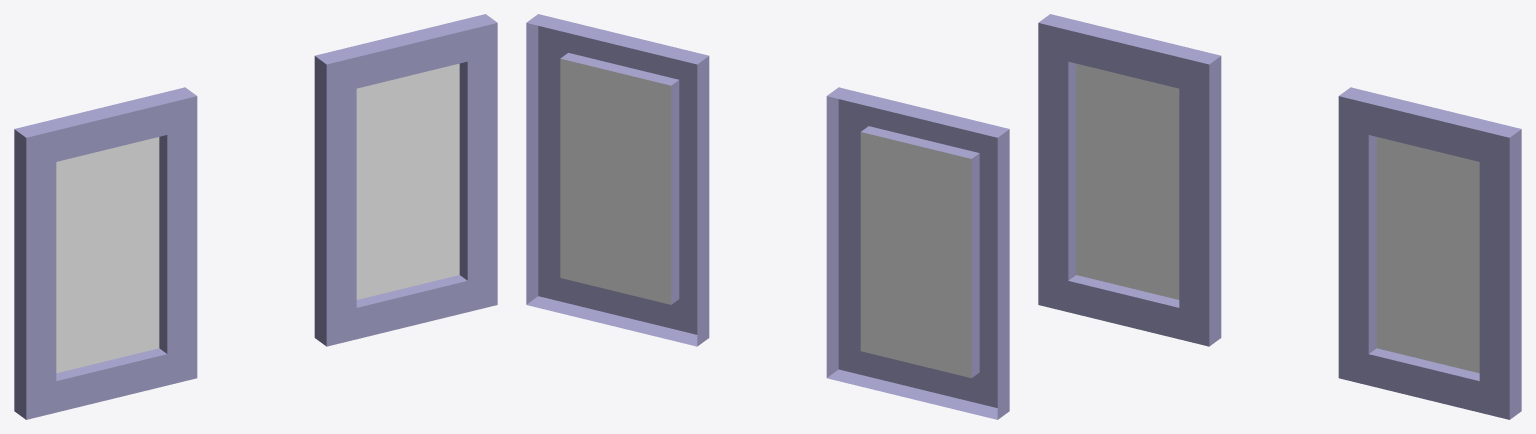
The model's file is window9.obj.
3 renders of one model, left to right at view 1: azimuth 30°, elevation 25°; view 2: azimuth 150°, elevation 25°; view 3: azimuth 330°, elevation 25°, orthographic.
Visible parts, largest first — view 1: mergedBlocks; view 2: mergedBlocks; view 3: mergedBlocks.
Boxes of the visible parts, x1,y1,x2,y2 form: mergedBlocks: (14,14,497,419); mergedBlocks: (526,14,1009,419); mergedBlocks: (1038,14,1521,419).
Bounding box in the file's own units: 0.678 × 0.3877 × 0.03.
